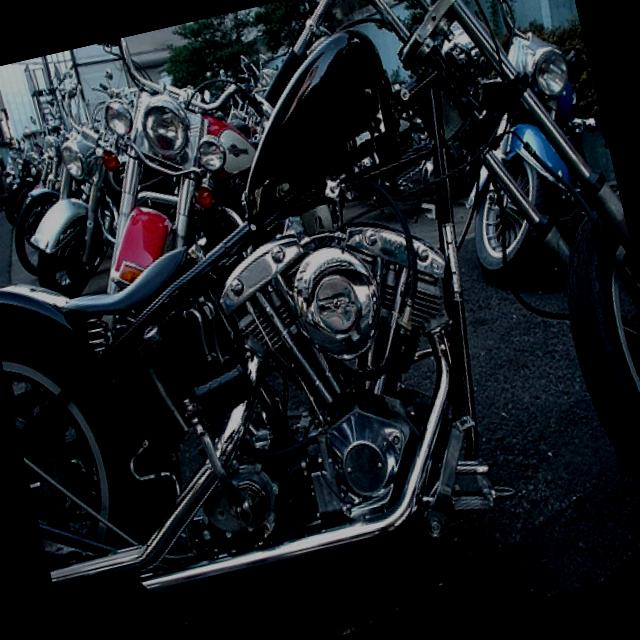Vehicle: (0, 0, 640, 640), (46, 5, 321, 298), (0, 70, 152, 304), (0, 119, 96, 279), (0, 144, 64, 225), (0, 159, 26, 192)
